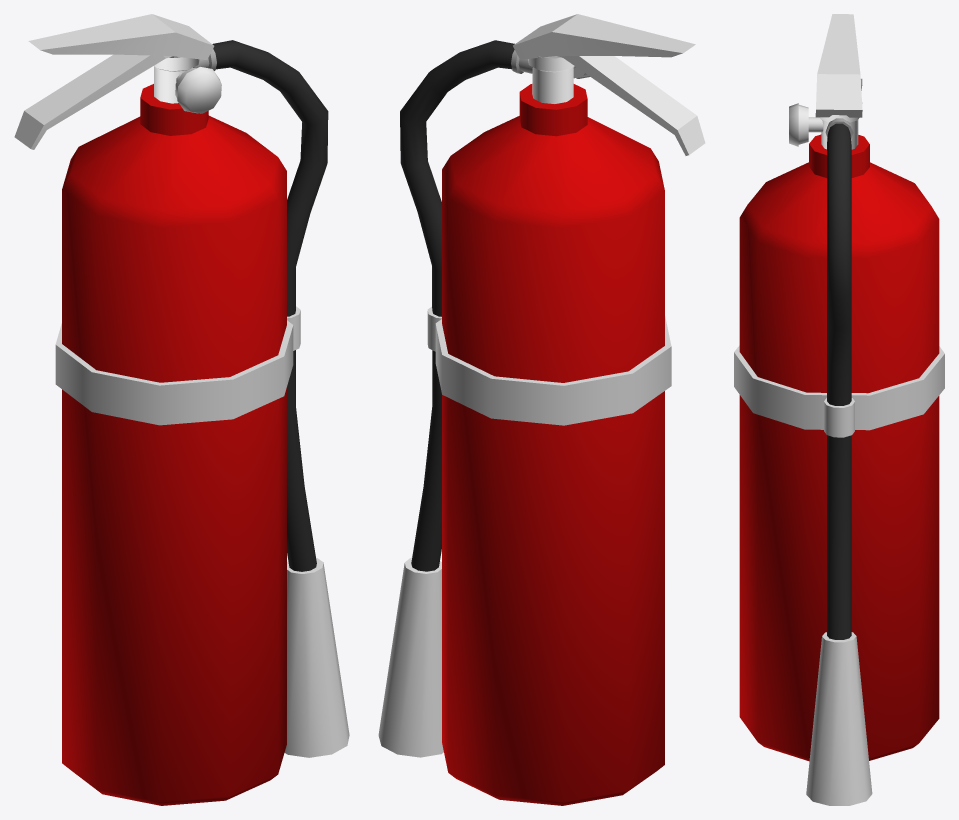
The model's file is FireExtinguisher.fbx.
The picture shows the model from 3 angles, left to right: view 1: azimuth 30°, elevation 25°; view 2: azimuth 150°, elevation 25°; view 3: azimuth 270°, elevation 25°; orthographic projection. The views are drawn at different scales.
Parts seen in each view (by area): view 1: FireExtinguisher; view 2: FireExtinguisher; view 3: FireExtinguisher.
Boxes of the visible parts, <box> form: FireExtinguisher: <box>14,14,349,805</box>; FireExtinguisher: <box>378,14,705,805</box>; FireExtinguisher: <box>734,14,944,805</box>.
Bounding box in the file's own units: 0.4391 × 1.01 × 0.2903.
